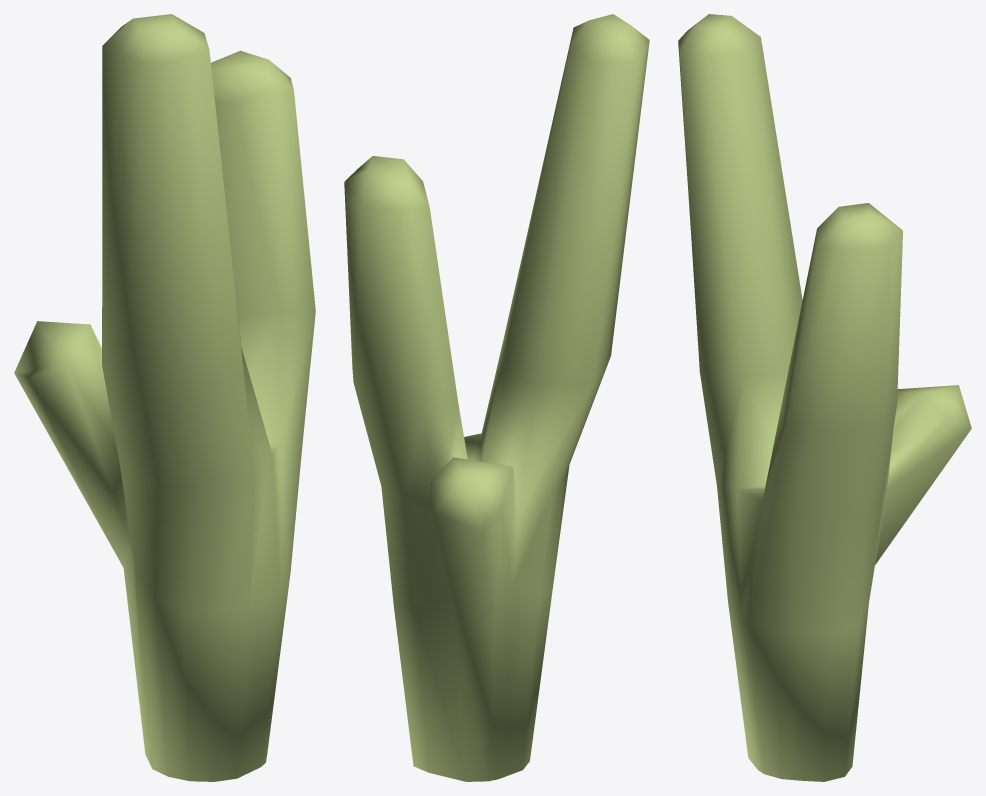
The model's file is Cactus.fbx.
The picture shows the model from 3 angles, left to right: view 1: azimuth 30°, elevation 25°; view 2: azimuth 150°, elevation 25°; view 3: azimuth 270°, elevation 25°; orthographic projection. The views are drawn at different scales.
Parts seen in each view (by area): view 1: Cylinder; view 2: Cylinder; view 3: Cylinder.
Part boxes in pixels (left/top/right/bottom): Cylinder: left=14, top=14, right=315, bottom=781; Cylinder: left=344, top=14, right=649, bottom=781; Cylinder: left=678, top=14, right=971, bottom=781.
Bounding box in the file's own units: 131 × 402 × 154.
